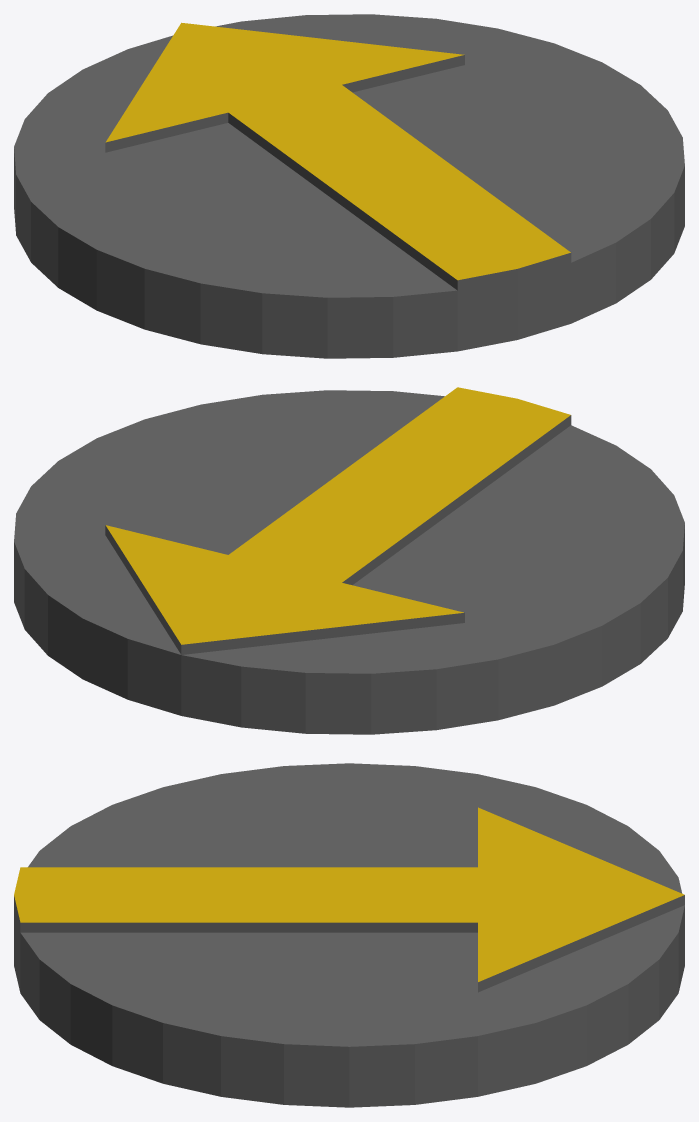
The model's file is jumpingPlatform.fbx.
3 views of the same model, one above another, from view 1: azimuth 30°, elevation 25°; view 2: azimuth 150°, elevation 25°; view 3: azimuth 270°, elevation 25° (orthographic).
Parts seen in each view (by area): view 1: Cylinder; view 2: Cylinder; view 3: Cylinder.
Boxes of the visible parts, bbox=[...] form: Cylinder: bbox=[14, 14, 684, 358]; Cylinder: bbox=[14, 387, 684, 734]; Cylinder: bbox=[14, 763, 684, 1107].
Size of the model in its own units: 200 by 23.36 by 200.
